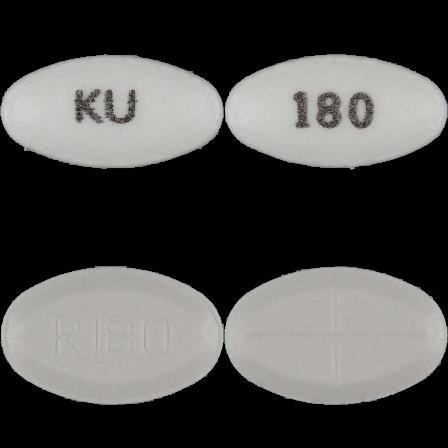68084-643: (0, 0, 224, 224)
